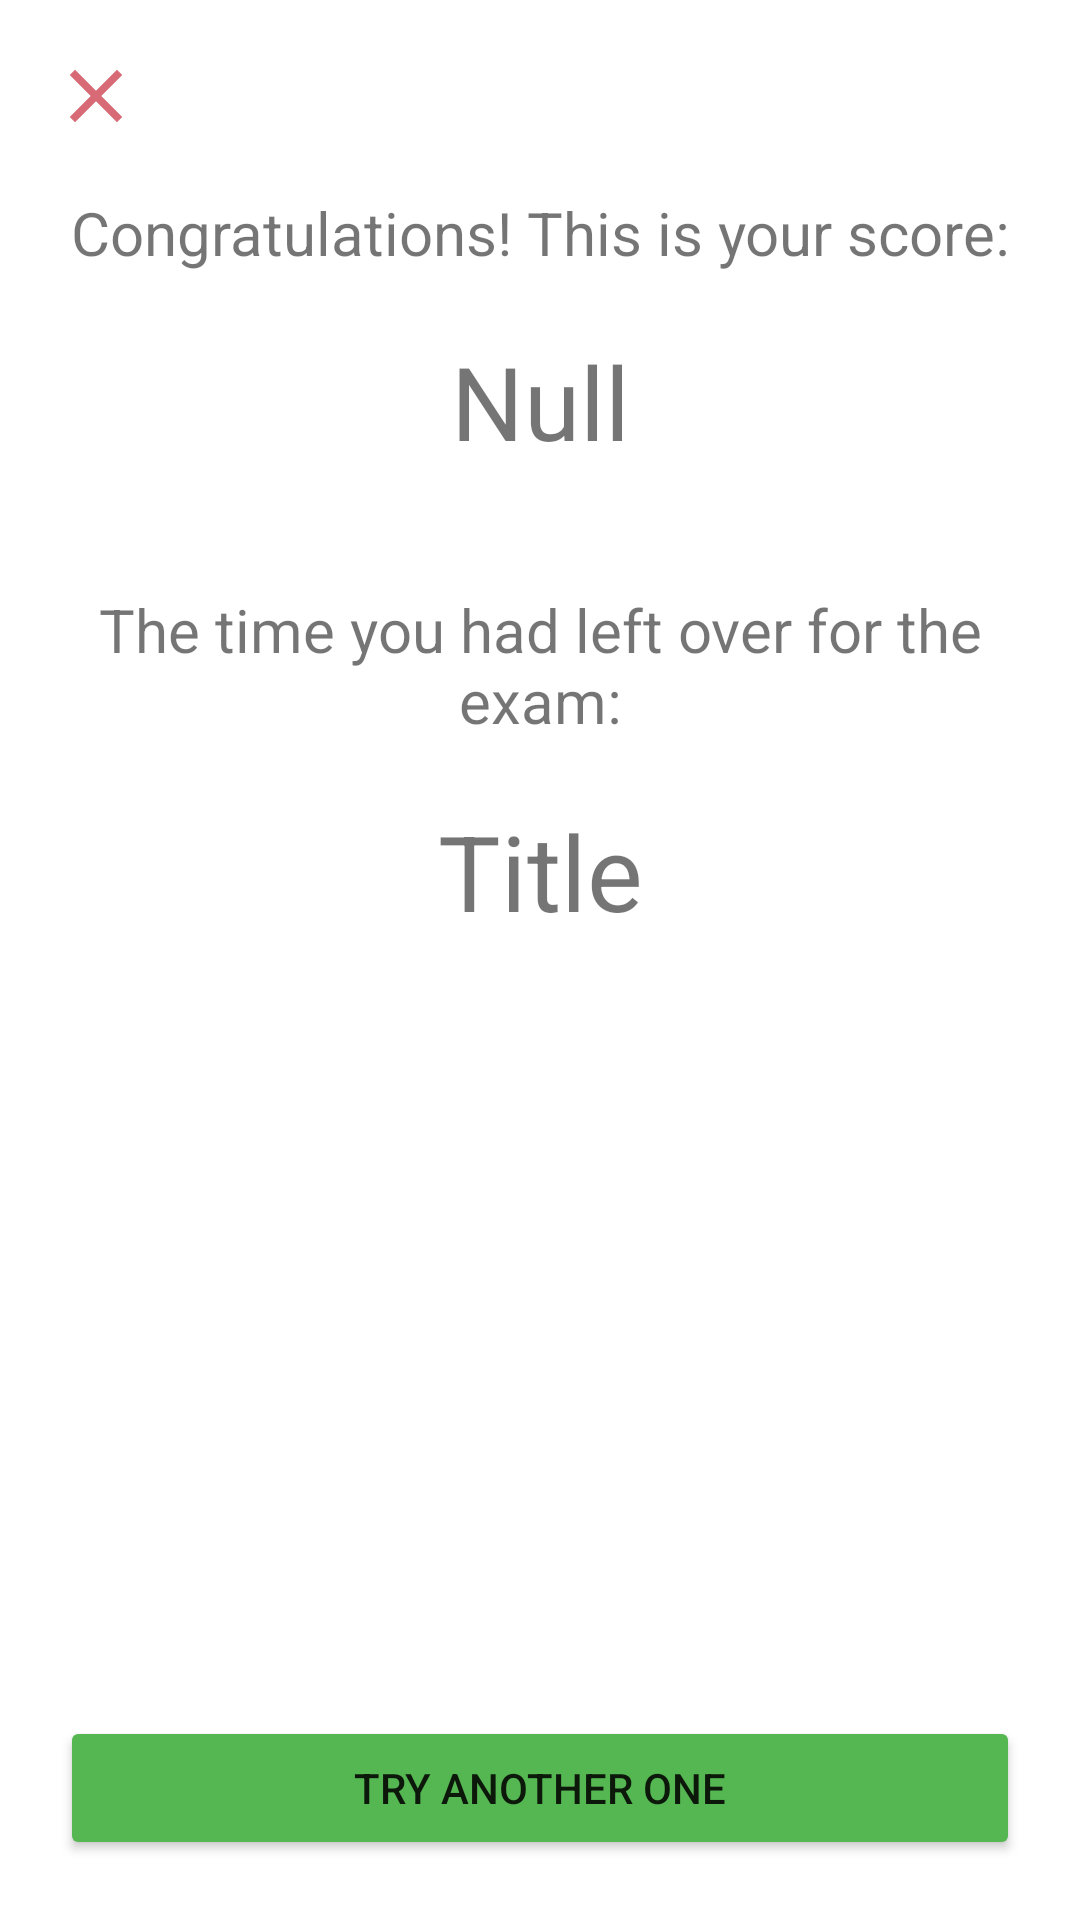

Icon bounding boxes for this 1080 × 1920 phone screenshot, format BBox(x1, y1, x2, y2):
close: BBox(70, 70, 122, 122)
